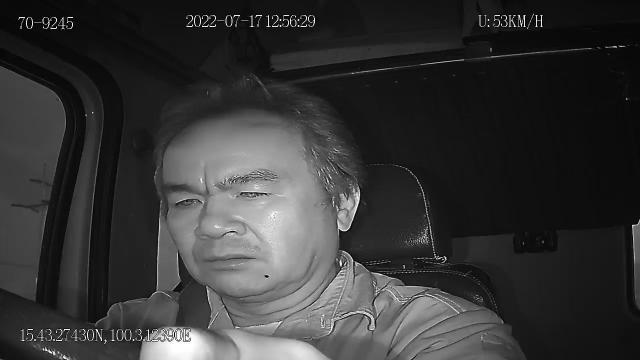SafeDriving: (226, 178, 282, 206), (163, 187, 209, 214)
Seatbelt: (174, 278, 214, 332)
